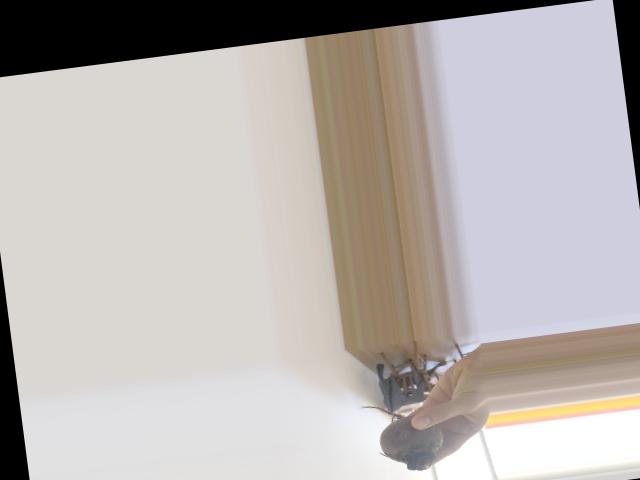beet: (357, 396, 446, 477)
